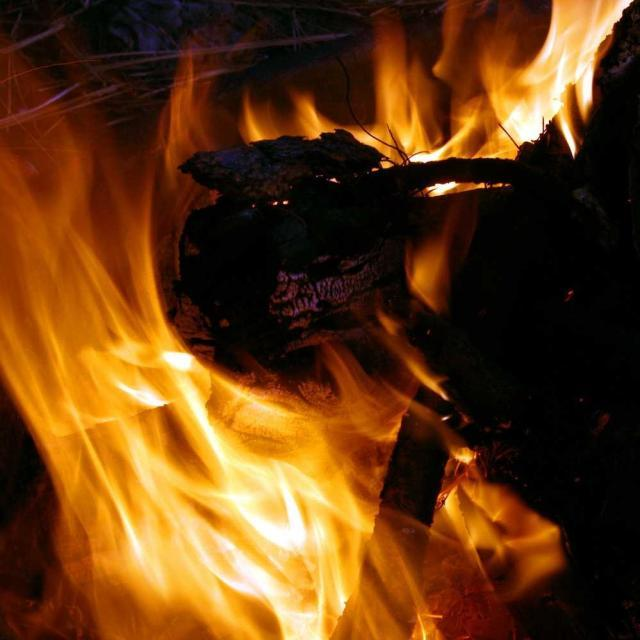Fire: (11, 51, 397, 634)
